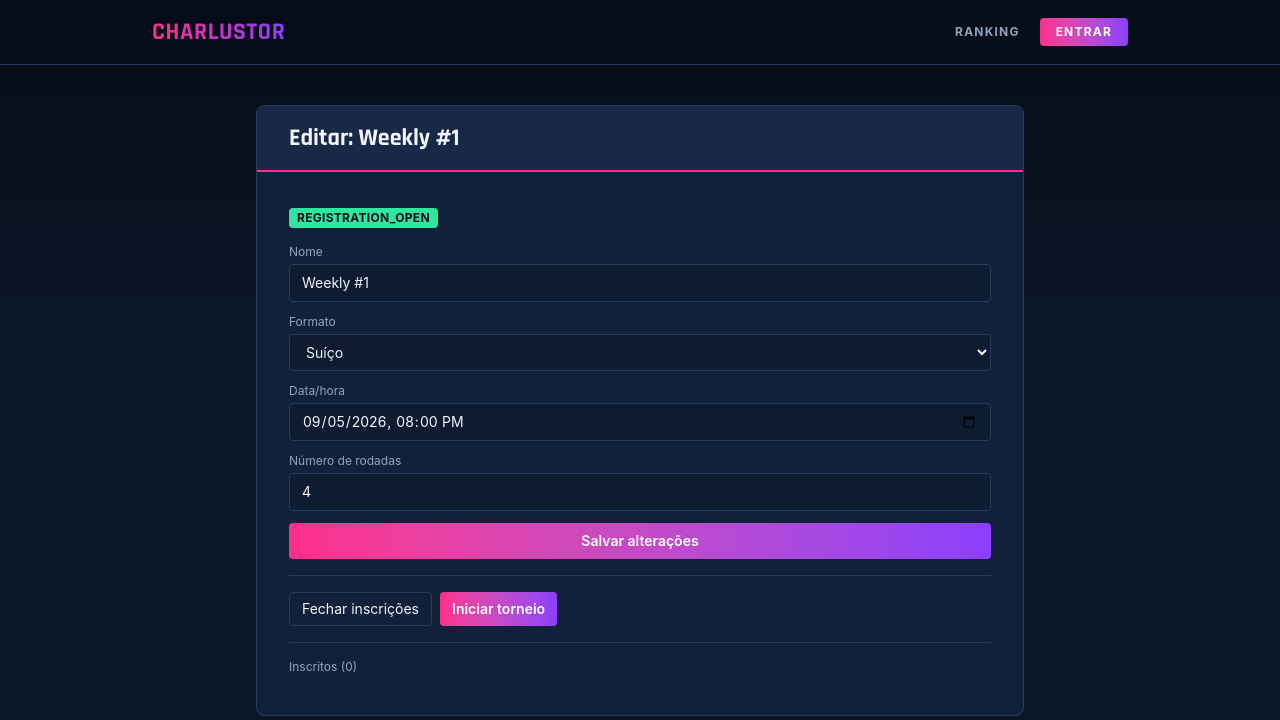
TournamentEditPage — tournament engine actions › shows the list of pending participants when start is blocked
Click the button "Iniciar torneio": (499, 609) [440,592,557,626]
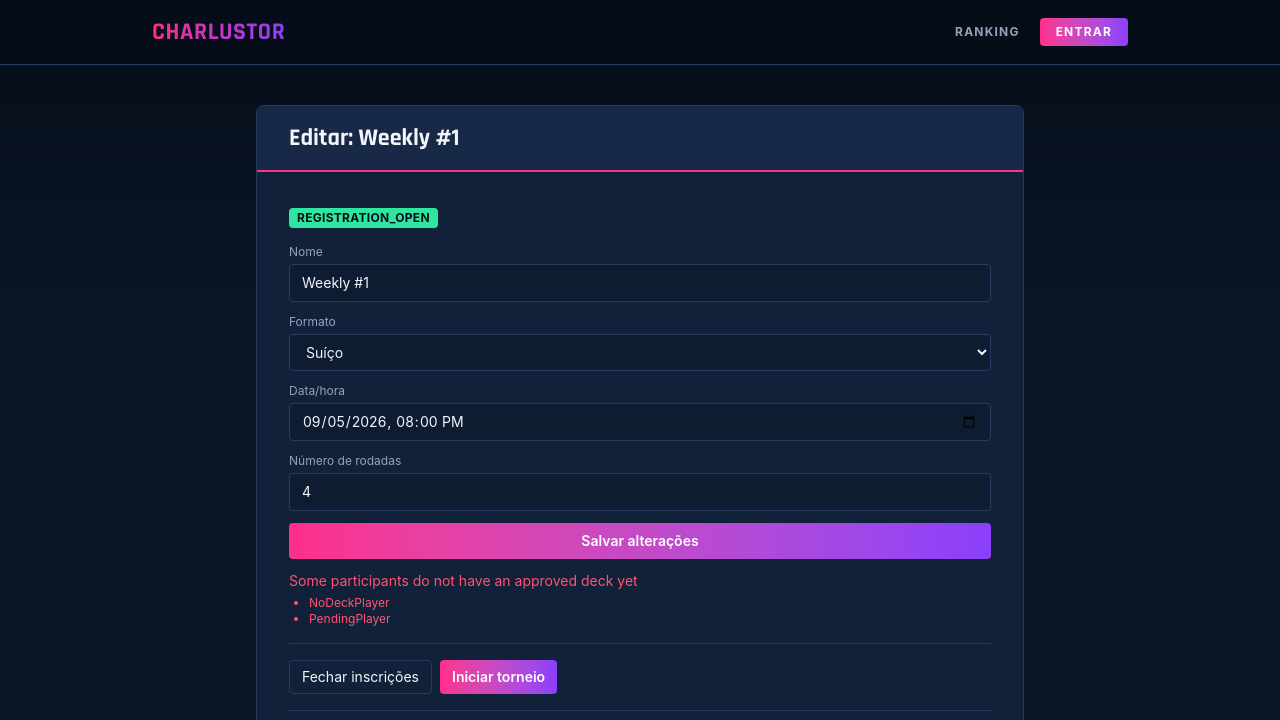
Expected: the list item "NoDeckPlayer" is shown, [309,595,390,610]
Expected: the list item "PendingPlayer" is shown, [309,611,390,626]
